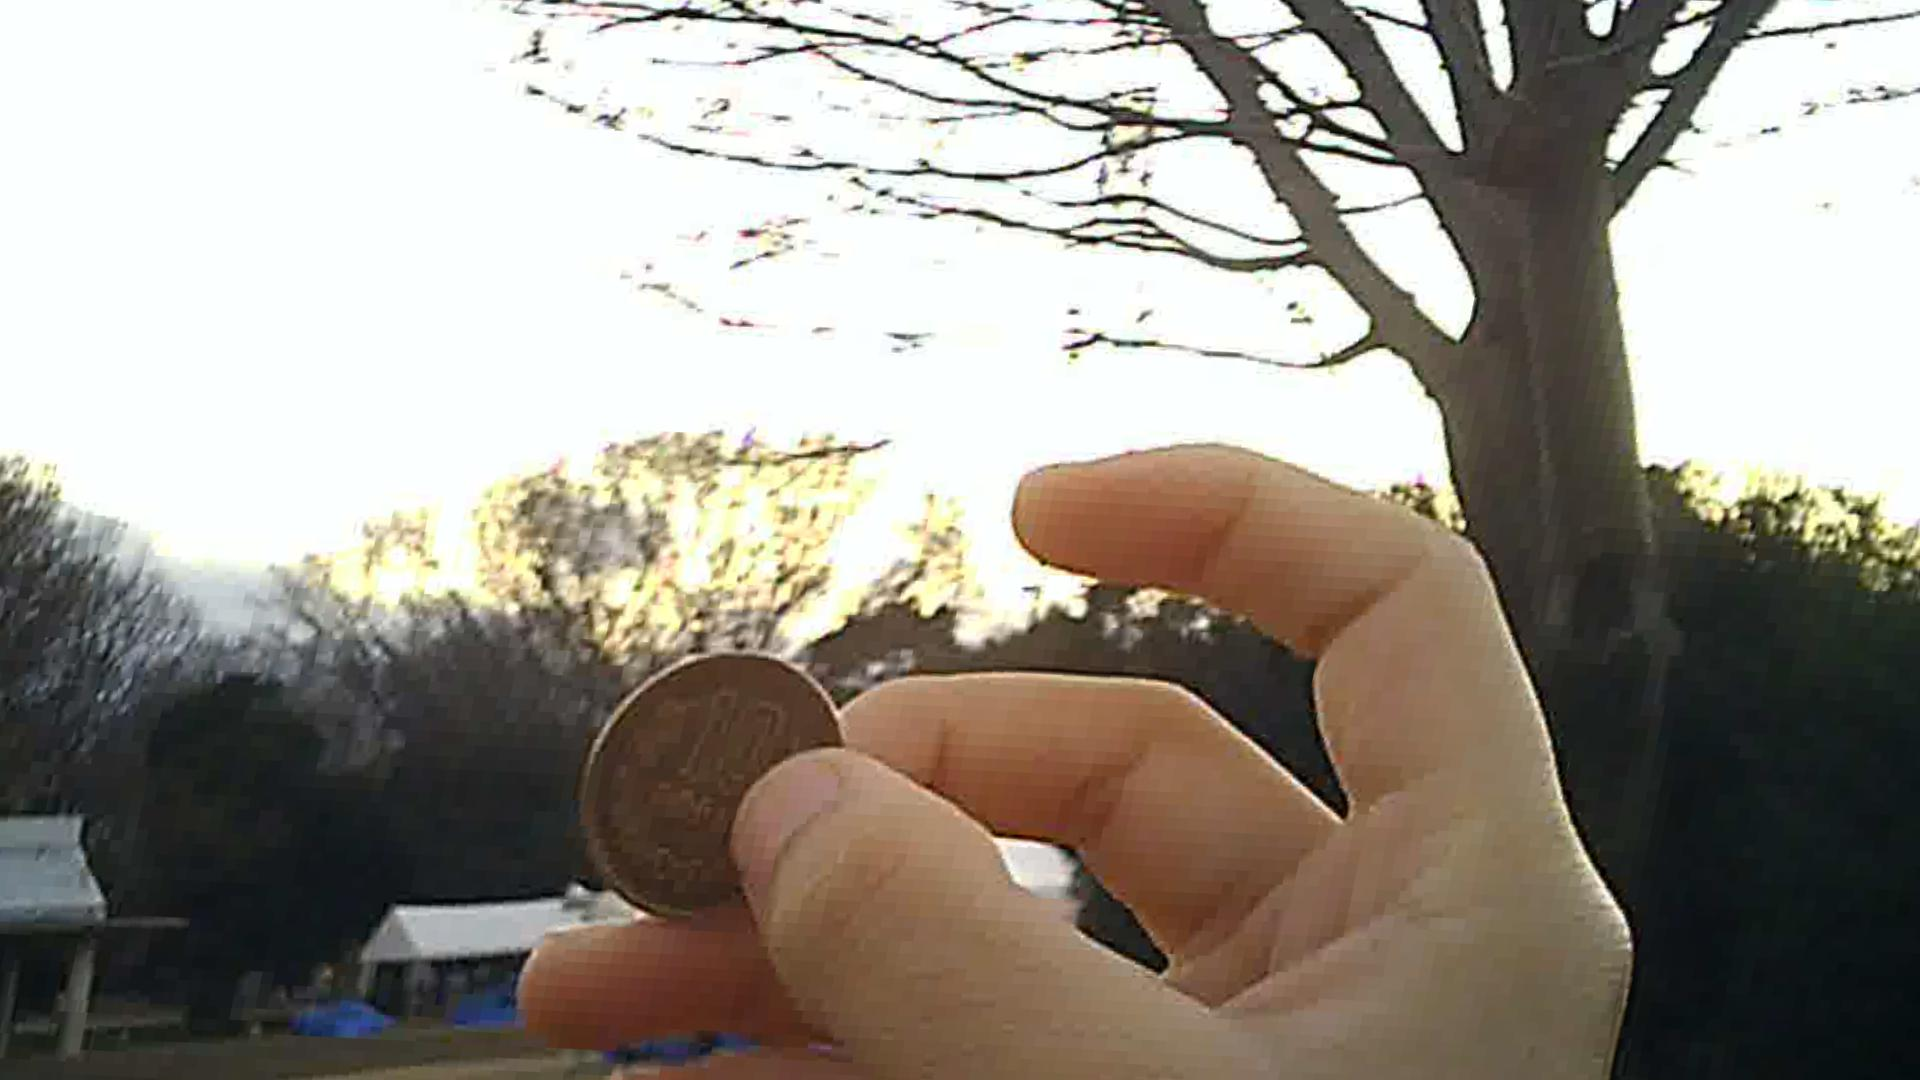10 Yen: (572, 651, 862, 922)
